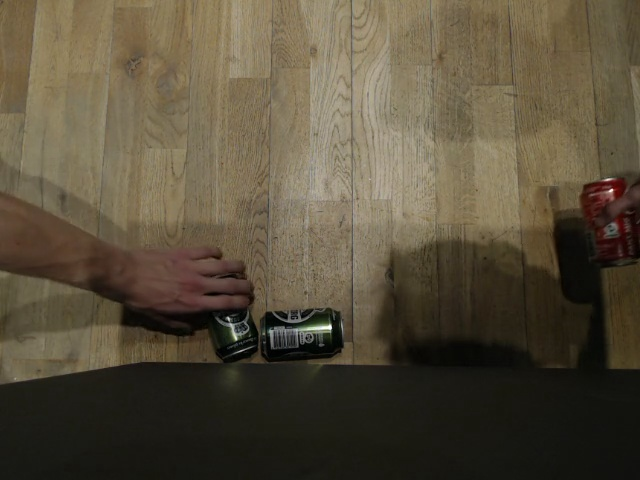beer: (190, 269, 258, 362), (260, 305, 343, 362)
cola: (577, 176, 640, 270)
